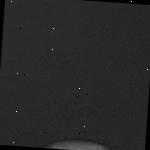colony: (4, 132, 145, 150)
